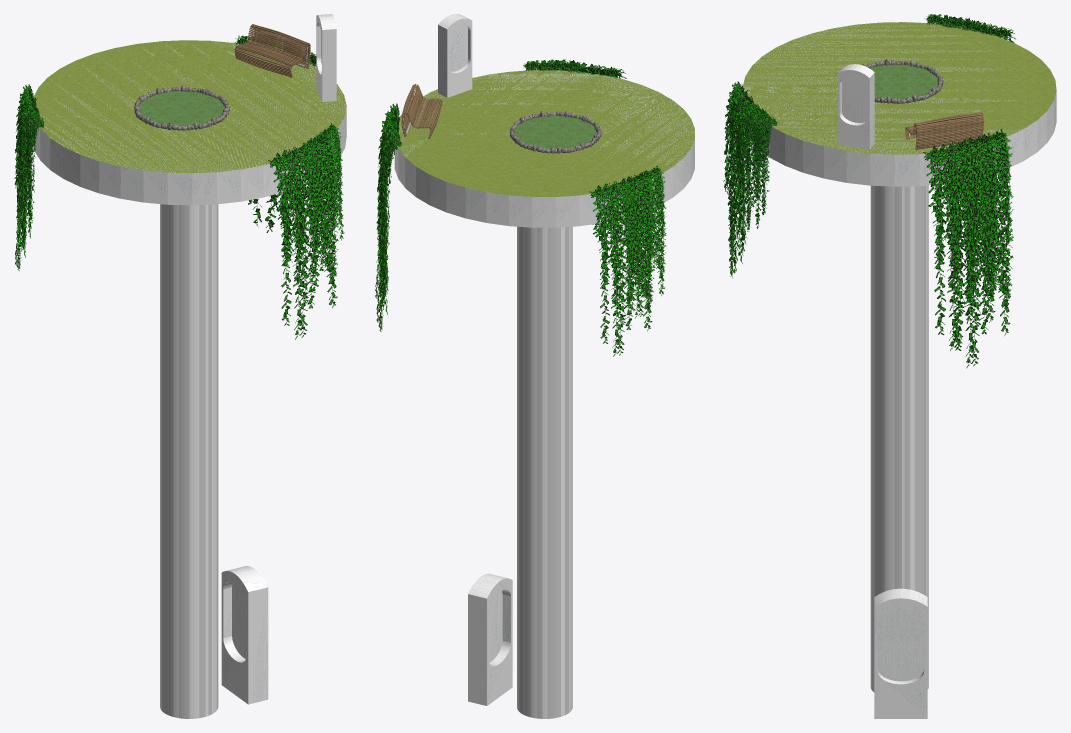
The model's file is aereo3.glb.
3 renders of one model, left to right at view 1: azimuth 30°, elevation 25°; view 2: azimuth 150°, elevation 25°; view 3: azimuth 270°, elevation 25°, orthographic. The views are drawn at different scales.
Visible parts, largest first — view 1: SketchUp.015, SketchUp.19270, SketchUp.19268, SketchUp, SketchUp.019, SketchUp.080, SketchUp.12639, SketchUp.081; view 2: SketchUp.015, SketchUp.19270, SketchUp.19268, SketchUp, SketchUp.080, SketchUp.12639, SketchUp.019, SketchUp.081; view 3: SketchUp.015, SketchUp.19270, SketchUp, SketchUp.19268, SketchUp.12639, SketchUp.019, SketchUp.080, SketchUp.081.
Part boxes in pixels (x1,y1,x2,y2): SketchUp.015: [32, 14, 346, 718]; SketchUp.19270: [33, 40, 346, 173]; SketchUp.19268: [160, 204, 218, 718]; SketchUp: [14, 35, 344, 339]; SketchUp.019: [234, 24, 310, 77]; SketchUp.080: [139, 90, 224, 127]; SketchUp.12639: [16, 41, 341, 335]; SketchUp.081: [134, 85, 229, 130]; SketchUp.015: [394, 14, 694, 718]; SketchUp.19270: [397, 70, 694, 196]; SketchUp.19268: [517, 226, 572, 718]; SketchUp: [375, 59, 666, 356]; SketchUp.080: [514, 115, 597, 149]; SketchUp.12639: [376, 63, 664, 353]; SketchUp.019: [401, 84, 442, 138]; SketchUp.081: [510, 110, 601, 153]; SketchUp.015: [750, 64, 1056, 718]; SketchUp.19270: [742, 22, 1056, 154]; SketchUp: [723, 14, 1015, 368]; SketchUp.19268: [871, 185, 928, 690]; SketchUp.12639: [725, 17, 1011, 365]; SketchUp.019: [905, 112, 983, 149]; SketchUp.080: [870, 64, 937, 99]; SketchUp.081: [862, 59, 943, 103].
Size of the model in its own units: 8.84 by 19.21 by 8.59.
12 materials, 7 textured.
